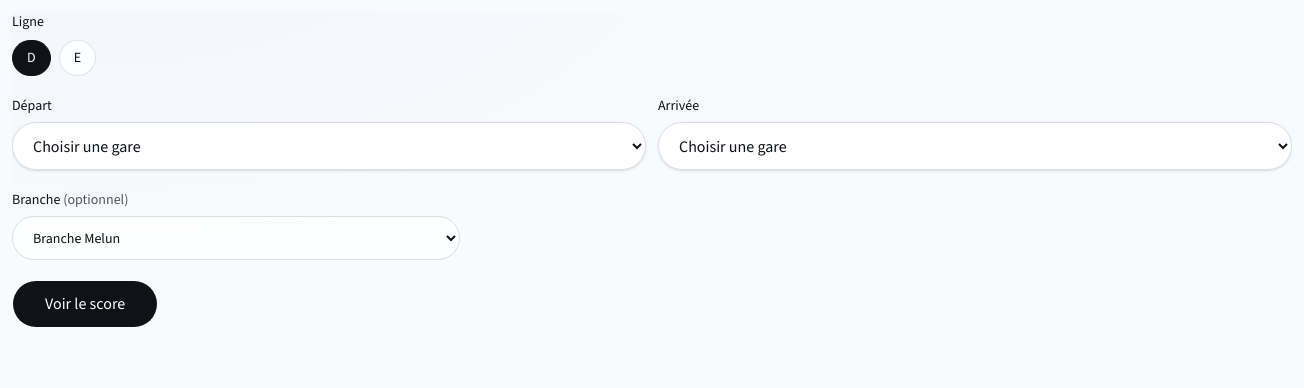
Test: StationSearch › blocks A = B with an alert
Click the button "Voir le score". click: [85, 304]
box: [12,280,158,328]
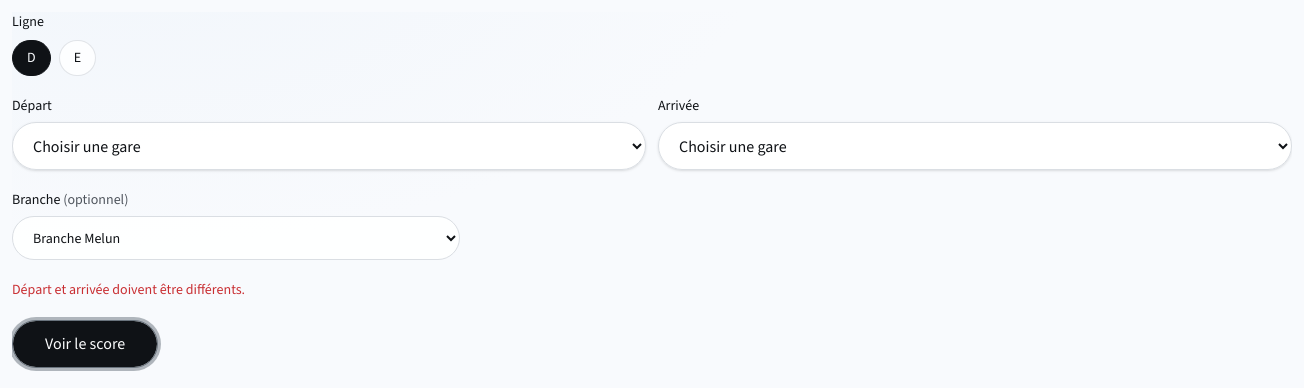
Expected: the message shows "Départ et arrivée doivent être différents", [12,280,245,299]
